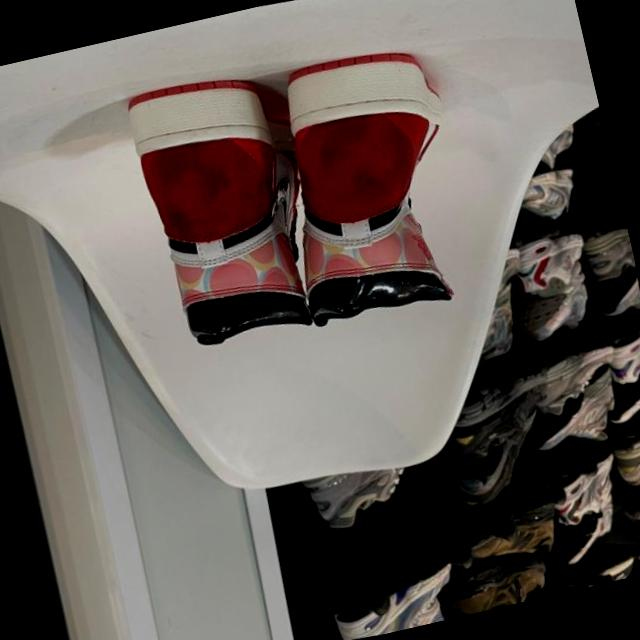nike_fake_jordan: (261, 35, 495, 334), (114, 59, 336, 358)
